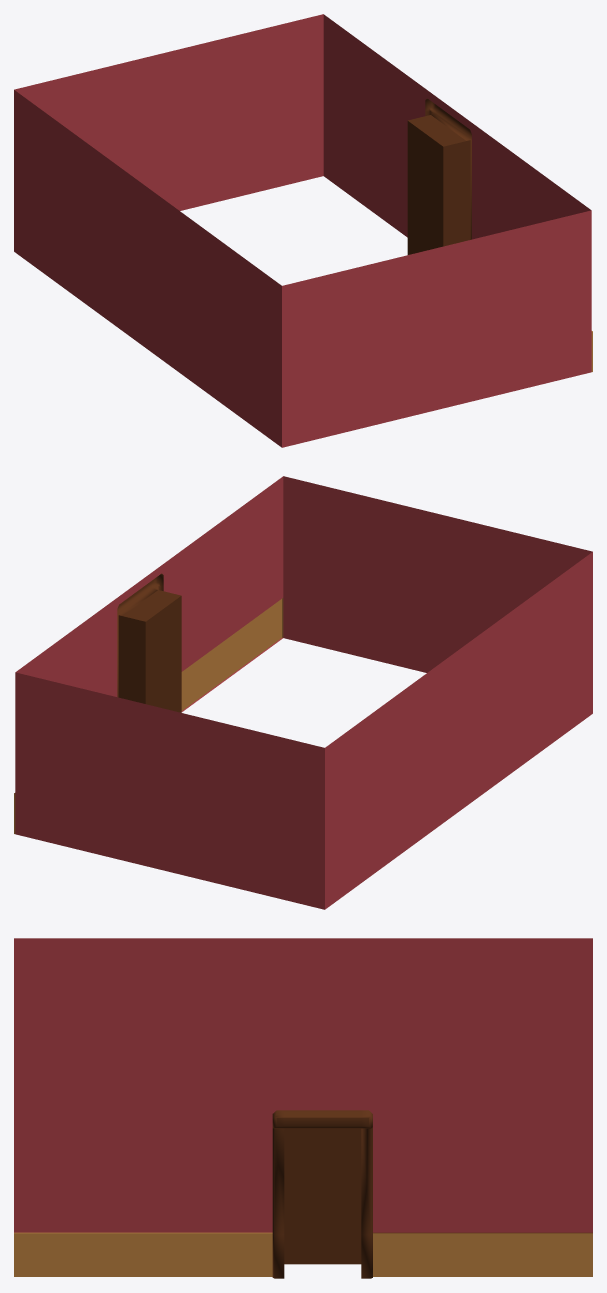
Rendered from Stucco bottom 6x3x4.fbx.
3 views of the same model, one above another, from view 1: azimuth 30°, elevation 25°; view 2: azimuth 150°, elevation 25°; view 3: azimuth 270°, elevation 25° (orthographic). The views are drawn at different scales.
Parts seen in each view (by area): view 1: Stucco bottom 6; view 2: Stucco bottom 6; view 3: Stucco bottom 6.
Part boxes in pixels (left/top/right/bottom): Stucco bottom 6: left=14, top=14, right=592, bottom=447; Stucco bottom 6: left=14, top=476, right=592, bottom=909; Stucco bottom 6: left=14, top=938, right=592, bottom=1278.
Size of the model in its own units: 411 by 200 by 600.
